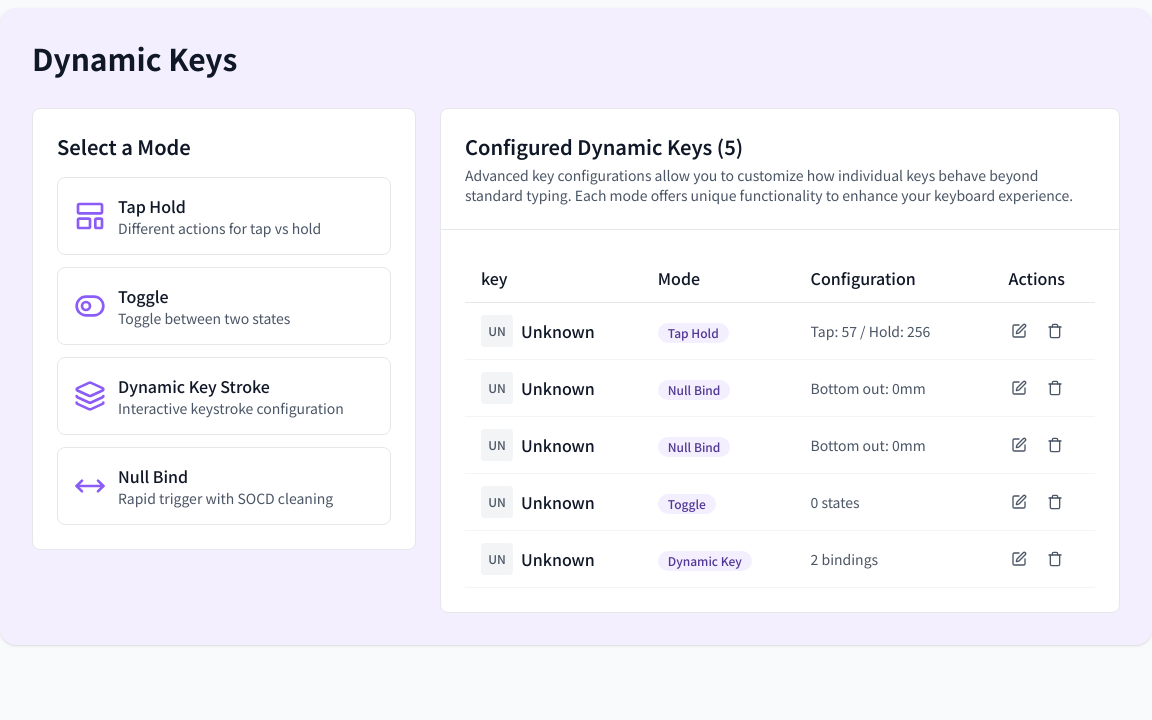
Test: Dynamic Keys dashboard › deleting a null-bind row removes the pair
Click the 2nd button named "Delete configuration" at (1055, 388), box top-left (1041, 374), bottom-right (1069, 402)
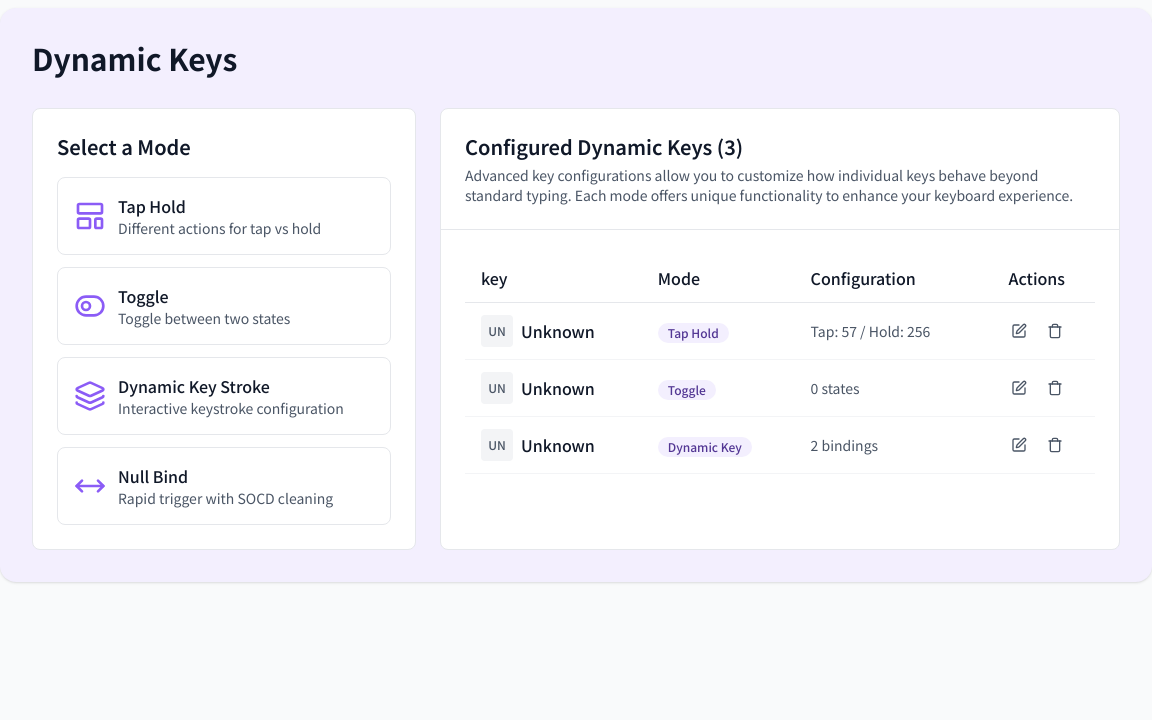
Result: the heading "Configured Dynamic Keys (3)" is shown at top-left (465, 132), bottom-right (743, 161)
